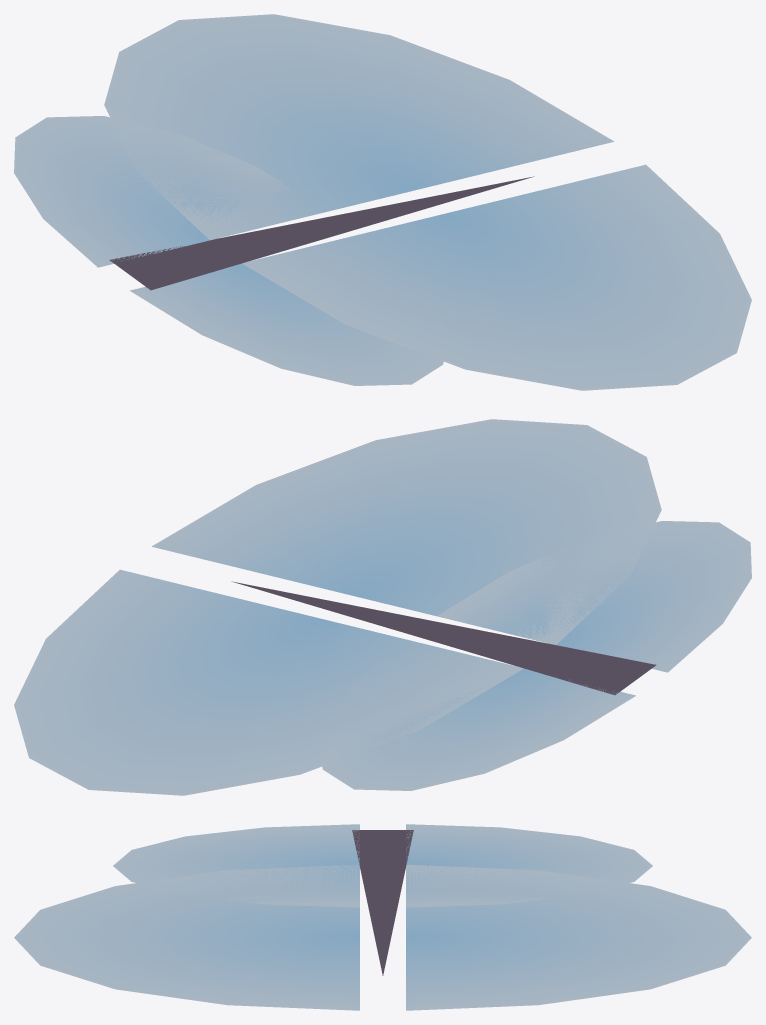
Rendered from SM_GR_Butterfly_Blue.fbx.
3 renders of one model, top to bottom at view 1: azimuth 30°, elevation 25°; view 2: azimuth 150°, elevation 25°; view 3: azimuth 270°, elevation 25°, orthographic. The views are drawn at different scales.
Parts seen in each view (by area): view 1: SM_GR_Butterfly_Blue; view 2: SM_GR_Butterfly_Blue; view 3: SM_GR_Butterfly_Blue.
Part boxes in pixels (bbox=[...]): SM_GR_Butterfly_Blue: bbox=[14, 14, 751, 390]; SM_GR_Butterfly_Blue: bbox=[14, 419, 751, 795]; SM_GR_Butterfly_Blue: bbox=[14, 824, 751, 1010].
Bounding box in the file's own units: 5.72 × 4.18e-07 × 9.56.
